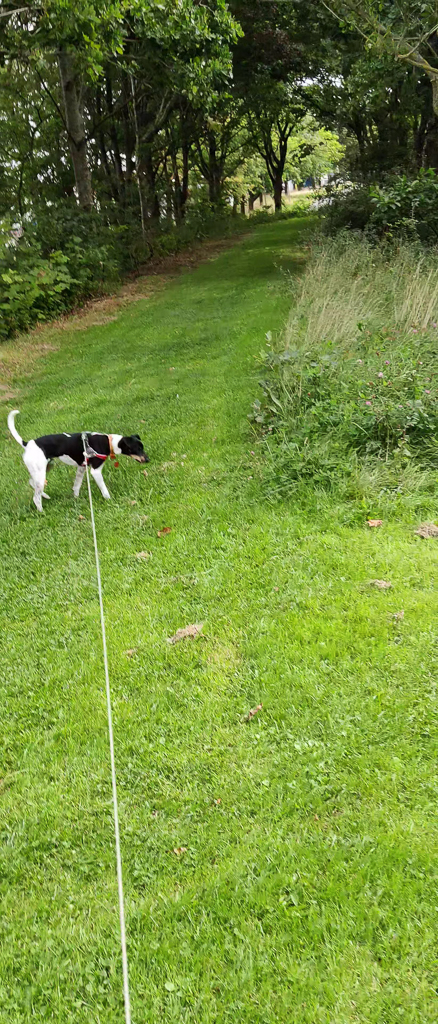Dog: (4, 407, 156, 517)
